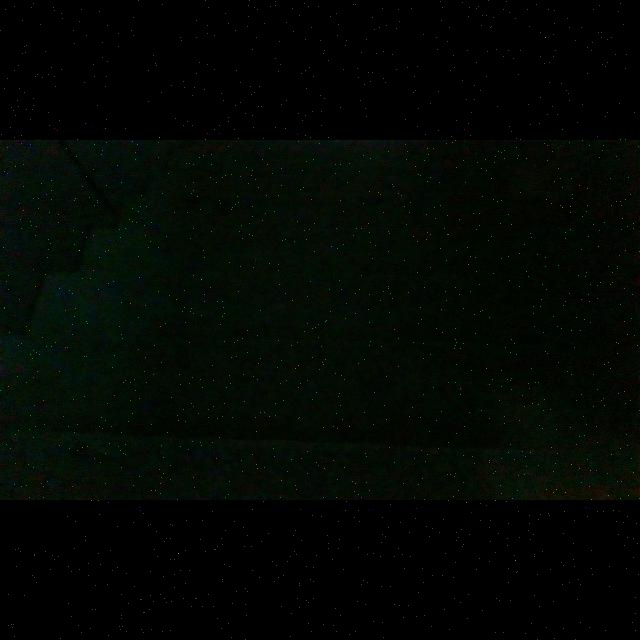stair: (19, 143, 640, 482)
